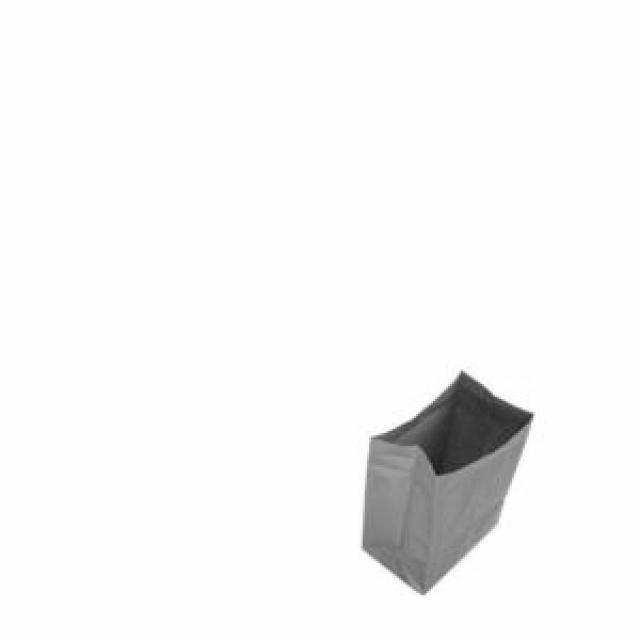paper: (358, 367, 529, 591)
